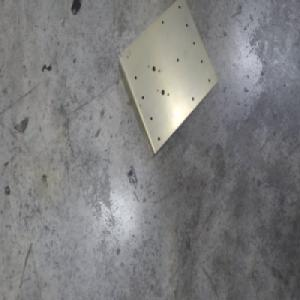MetalSheet: (116, 0, 218, 160)
